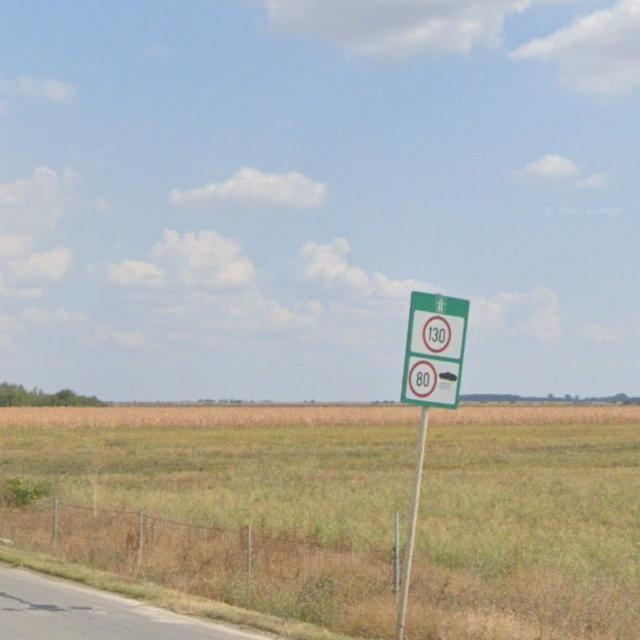forb_speed_over_80: (409, 360, 437, 398)
